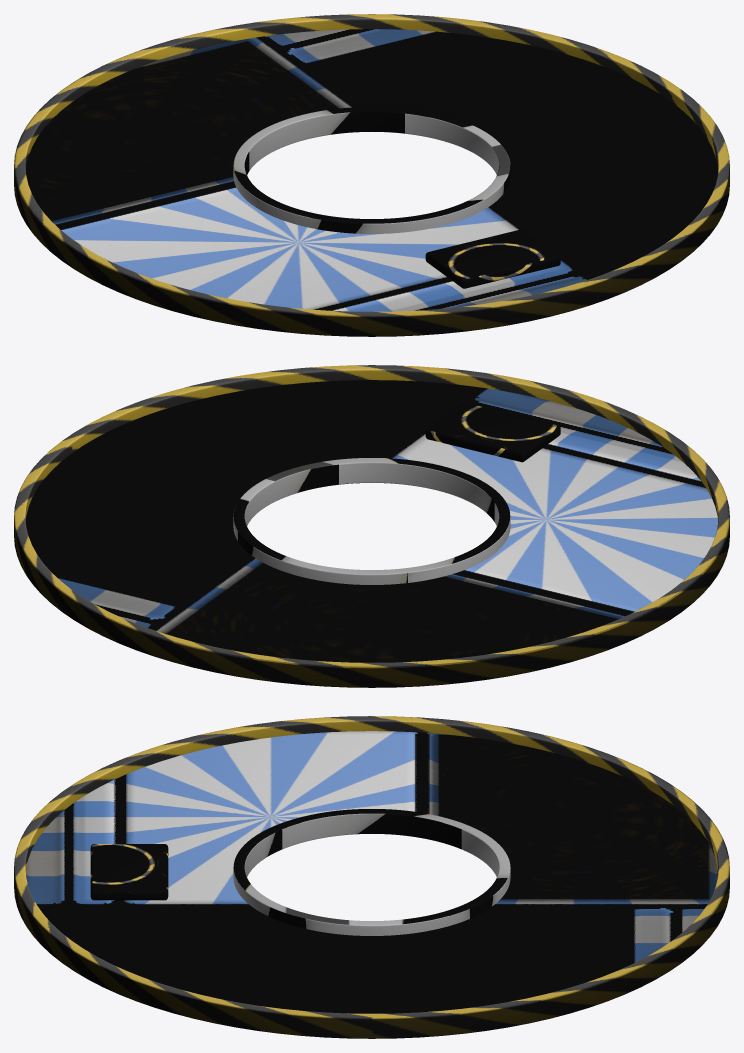
The model's file is arena_2_export.dae.
3 renders of one model, top to bottom at view 1: azimuth 30°, elevation 25°; view 2: azimuth 150°, elevation 25°; view 3: azimuth 270°, elevation 25°, orthographic.
Visible parts, largest first — view 1: floor.1, outertube.1, innertube.1, balanceboard.1; view 2: floor.1, outertube.1, innertube.1, balanceboard.1; view 3: floor.1, outertube.1, innertube.1, balanceboard.1.
Part boxes in pixels (x1=…): floor.1: x1=26, y1=29, x2=717, y2=311; outertube.1: x1=14, y1=14, x2=729, y2=336; innertube.1: x1=233, y1=107, x2=510, y2=233; balanceboard.1: x1=425, y1=229, x2=560, y2=288; floor.1: x1=26, y1=380, x2=717, y2=662; outertube.1: x1=14, y1=365, x2=729, y2=687; innertube.1: x1=233, y1=458, x2=510, y2=584; balanceboard.1: x1=425, y1=402, x2=560, y2=462; floor.1: x1=26, y1=731, x2=717, y2=1013; outertube.1: x1=14, y1=716, x2=729, y2=1038; innertube.1: x1=233, y1=809, x2=510, y2=935; balanceboard.1: x1=90, y1=844, x2=168, y2=900.
Bounding box in the file's own units: 31 × 1 × 31.
